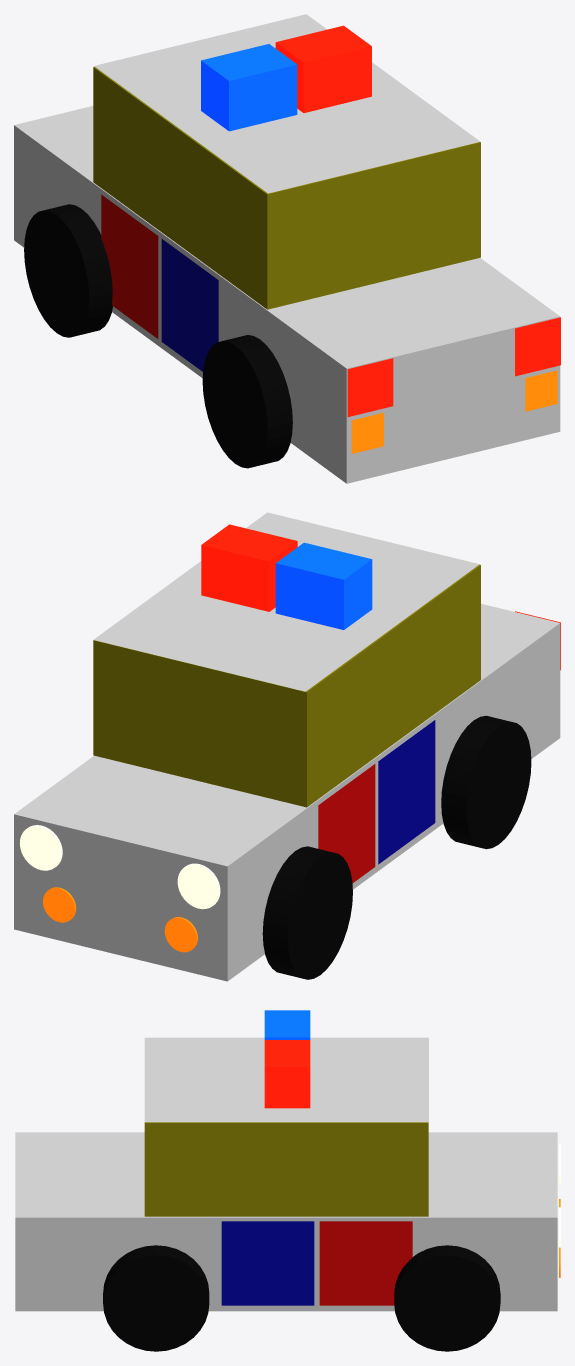
File: police car .fbx
The picture shows the model from 3 angles, top to bottom: view 1: azimuth 30°, elevation 25°; view 2: azimuth 150°, elevation 25°; view 3: azimuth 270°, elevation 25°; orthographic projection. The views are drawn at different scales.
Parts seen in each view (by area): view 1: Cube.021, Cube.022, Plane.062, Circle.112, Circle.110, Cube.023, Cube.024, Plane.064, Plane.066, Plane.058, Plane.059, Plane.060 (+1 smaller); view 2: Cube.021, Cube.022, Plane.062, Circle.112, Circle.110, Cube.023, Plane.064, Cube.024, Plane.066, Circle.105, Circle.113, Circle.106 (+1 smaller); view 3: Cube.021, Cube.022, Plane.062, Circle.111, Circle.109, Plane.063, Plane.065, Cube.024, Cube.023.
Part boxes in pixels (bbox=[...]): Cube.021: bbox=[14, 106, 560, 483]; Cube.022: bbox=[93, 66, 480, 309]; Plane.062: bbox=[94, 14, 480, 193]; Circle.112: bbox=[202, 335, 292, 468]; Circle.110: bbox=[24, 204, 112, 337]; Cube.023: bbox=[201, 44, 297, 131]; Cube.024: bbox=[275, 25, 371, 112]; Plane.064: bbox=[161, 239, 218, 371]; Plane.066: bbox=[101, 194, 158, 338]; Plane.058: bbox=[347, 358, 393, 416]; Plane.059: bbox=[515, 317, 560, 376]; Plane.060: bbox=[525, 370, 557, 411]; Cube.021: bbox=[14, 603, 560, 981]; Cube.022: bbox=[93, 564, 480, 807]; Plane.062: bbox=[93, 512, 479, 691]; Circle.112: bbox=[441, 715, 531, 849]; Circle.110: bbox=[262, 846, 352, 979]; Cube.023: bbox=[275, 542, 372, 629]; Plane.064: bbox=[378, 720, 435, 864]; Cube.024: bbox=[201, 524, 297, 611]; Plane.066: bbox=[318, 764, 375, 883]; Circle.105: bbox=[20, 825, 62, 870]; Circle.113: bbox=[177, 863, 220, 909]; Circle.106: bbox=[164, 917, 197, 952]; Cube.021: bbox=[15, 1132, 557, 1311]; Cube.022: bbox=[144, 1122, 428, 1216]; Plane.062: bbox=[144, 1037, 428, 1122]; Circle.111: bbox=[103, 1245, 209, 1351]; Circle.109: bbox=[394, 1245, 500, 1351]; Plane.063: bbox=[221, 1221, 314, 1305]; Plane.065: bbox=[319, 1221, 412, 1305]; Cube.024: bbox=[264, 1040, 310, 1108]; Cube.023: bbox=[264, 1010, 310, 1039].
Size of the model in its own units: 247 by 286 by 544.
